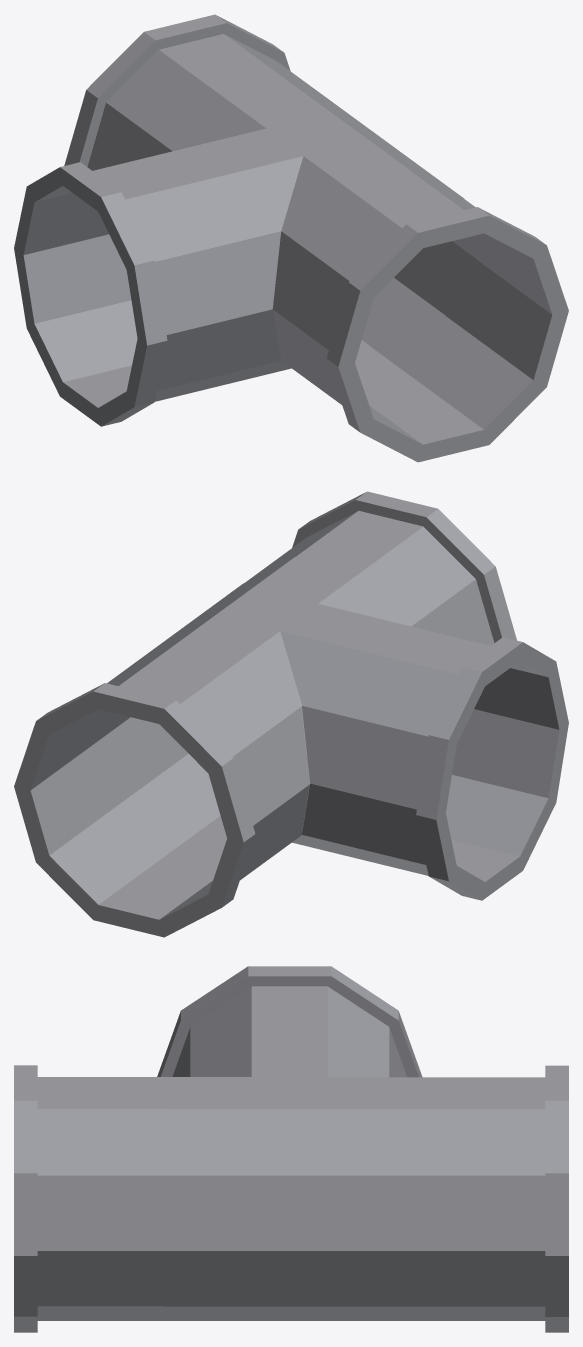
File: TuberiaGrande_BifurcaciónJunta.fbx
The picture shows the model from 3 angles, top to bottom: view 1: azimuth 30°, elevation 25°; view 2: azimuth 150°, elevation 25°; view 3: azimuth 270°, elevation 25°; orthographic projection.
Parts seen in each view (by area): view 1: TuberiaGrande_Conexion; view 2: TuberiaGrande_Conexion; view 3: TuberiaGrande_Conexion.
Boxes of the visible parts, x1,y1,x2,y2 form: TuberiaGrande_Conexion: [14, 14, 568, 462]; TuberiaGrande_Conexion: [14, 491, 568, 937]; TuberiaGrande_Conexion: [14, 966, 568, 1332].
Bounding box in the file's own units: 9.32 × 5.8 × 12.57.
